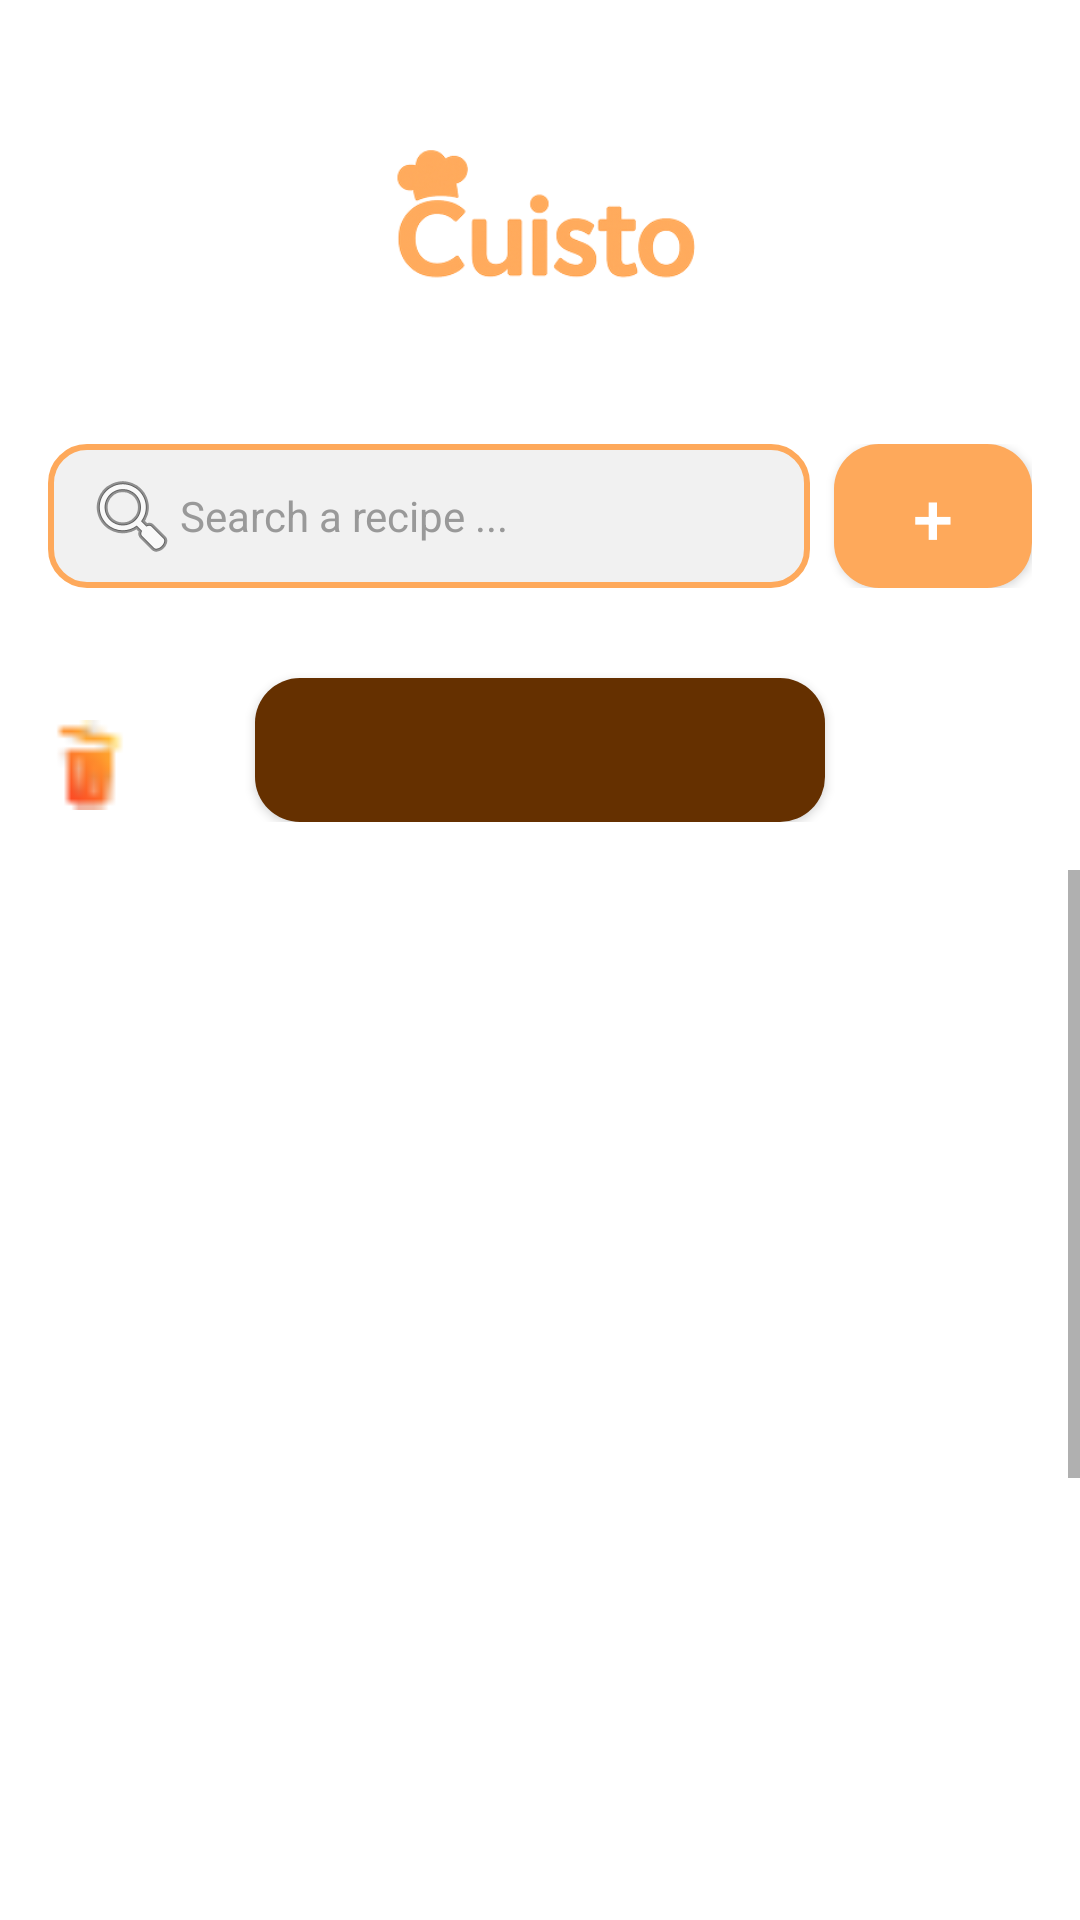

Named icons in this screenshot (1080w x 1920h) and their centers, [x,y]:
delete: [89,765]
